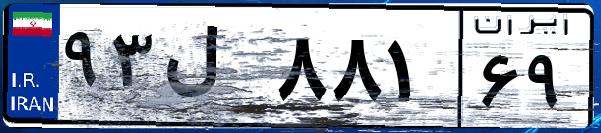1: (385, 28, 445, 110)
3: (110, 28, 158, 98)
6: (475, 38, 525, 113)
8: (270, 28, 330, 110), (330, 28, 385, 110)
9: (57, 26, 110, 100), (525, 38, 570, 115)
ل: (158, 20, 270, 120)
